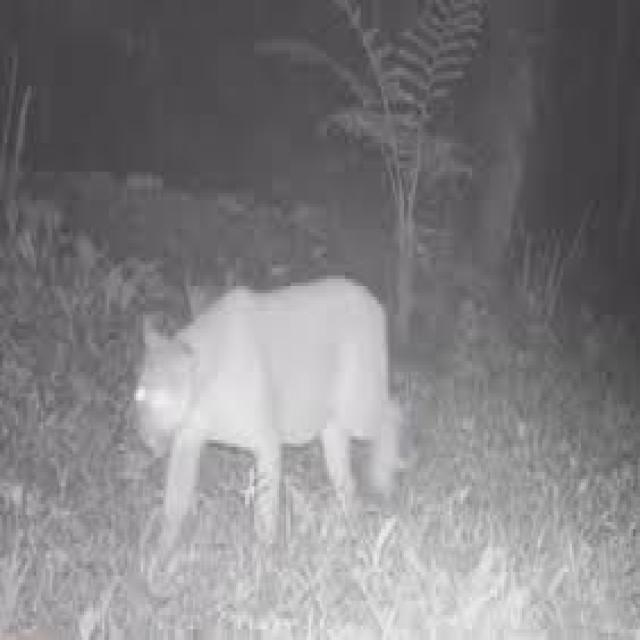Jaguar: (127, 272, 400, 522)
